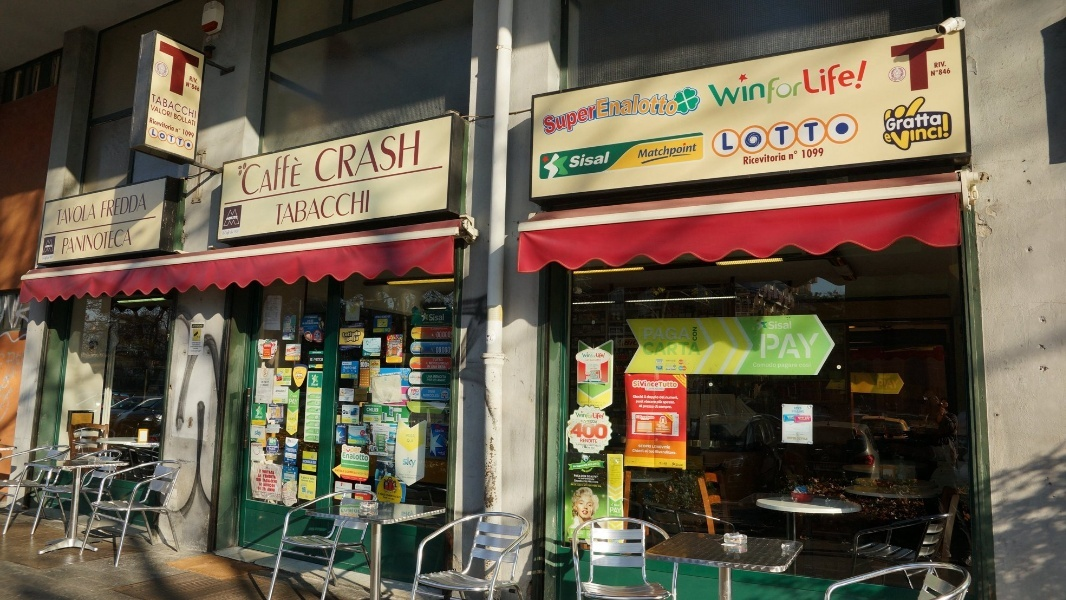text: (161, 41, 176, 100), (177, 41, 192, 100), (321, 127, 336, 185), (337, 127, 352, 185), (353, 127, 368, 185), (369, 127, 384, 185), (385, 127, 400, 185), (401, 127, 416, 185), (897, 37, 912, 94), (913, 37, 928, 94), (929, 37, 944, 94), (721, 58, 736, 110), (737, 58, 752, 110), (753, 58, 768, 110), (769, 58, 784, 110), (785, 58, 800, 110), (801, 58, 816, 110), (817, 58, 832, 110), (833, 58, 848, 110), (849, 58, 864, 110), (706, 58, 720, 110), (257, 151, 272, 199), (273, 151, 288, 199), (289, 151, 303, 199), (289, 189, 304, 226), (305, 189, 320, 226), (321, 189, 336, 226), (337, 189, 352, 226), (353, 189, 368, 226), (245, 151, 256, 199), (545, 103, 560, 138), (561, 103, 576, 138), (577, 103, 592, 138), (737, 119, 752, 152), (753, 119, 768, 152), (769, 119, 784, 152), (785, 119, 800, 152), (801, 119, 816, 152), (817, 119, 832, 152), (833, 119, 848, 152), (276, 189, 288, 226), (65, 227, 80, 256), (81, 227, 96, 256), (97, 227, 112, 256), (113, 227, 128, 256), (723, 119, 736, 152), (609, 92, 624, 120), (625, 92, 640, 120), (641, 92, 656, 120), (657, 92, 672, 120), (193, 41, 200, 100), (313, 127, 320, 185), (113, 192, 128, 219), (129, 192, 144, 219), (897, 125, 912, 152), (913, 125, 928, 152), (769, 333, 784, 360), (785, 333, 800, 360), (801, 333, 816, 360), (161, 94, 176, 120), (177, 94, 192, 120), (882, 125, 896, 152), (929, 125, 943, 152), (610, 458, 624, 485), (387, 335, 400, 363), (257, 469, 272, 493), (65, 202, 80, 226), (81, 202, 96, 226), (897, 110, 912, 133), (913, 110, 928, 133), (890, 37, 896, 94), (258, 378, 272, 402), (596, 92, 608, 120), (641, 141, 656, 162), (657, 141, 672, 162), (673, 141, 688, 162), (929, 110, 942, 133), (593, 423, 609, 440), (102, 192, 112, 219), (577, 151, 592, 168), (593, 151, 608, 168), (577, 423, 592, 440), (417, 127, 421, 185), (886, 110, 896, 133), (369, 338, 381, 357), (657, 341, 672, 356), (673, 341, 688, 356), (289, 344, 301, 362), (753, 152, 768, 166), (769, 152, 784, 166), (177, 113, 192, 127), (161, 117, 175, 132), (657, 327, 672, 341), (673, 327, 688, 341), (152, 94, 160, 120), (865, 58, 869, 110), (643, 341, 656, 356), (689, 341, 702, 356), (289, 481, 297, 505), (265, 297, 272, 324), (273, 297, 280, 324), (689, 141, 698, 162), (761, 333, 768, 360), (305, 315, 320, 327), (230, 209, 240, 227), (161, 104, 173, 119), (802, 147, 816, 159), (289, 316, 296, 340), (57, 202, 64, 226), (673, 92, 679, 120), (149, 117, 160, 132), (693, 326, 704, 341), (641, 377, 656, 388), (593, 363, 602, 381), (353, 452, 369, 462), (342, 362, 352, 378), (340, 388, 352, 401), (403, 456, 416, 468), (645, 327, 656, 341), (257, 491, 272, 501), (577, 410, 592, 420), (577, 474, 592, 484), (593, 103, 597, 138), (360, 370, 368, 387), (385, 492, 400, 501), (151, 104, 160, 119), (769, 321, 784, 330), (881, 380, 896, 389), (342, 330, 352, 343), (931, 67, 944, 77), (585, 363, 592, 381), (945, 114, 950, 139), (289, 466, 297, 481), (273, 469, 278, 493), (593, 410, 605, 420), (657, 424, 670, 433), (129, 227, 133, 256), (744, 152, 752, 166), (789, 150, 800, 160), (193, 342, 203, 353), (340, 508, 352, 517), (289, 399, 304, 406), (401, 473, 416, 480), (401, 510, 416, 517), (337, 469, 352, 476), (353, 469, 368, 476), (541, 103, 544, 138), (577, 443, 592, 450), (353, 330, 361, 343), (193, 94, 197, 120), (179, 138, 192, 146), (570, 423, 576, 440), (405, 434, 416, 443), (610, 507, 624, 514), (264, 344, 272, 356), (284, 481, 288, 505), (433, 313, 445, 321), (369, 415, 381, 423), (284, 316, 288, 340), (660, 416, 672, 424), (363, 338, 368, 357), (593, 352, 606, 359), (422, 389, 432, 398), (343, 452, 352, 462), (183, 129, 192, 139), (934, 60, 944, 69), (641, 449, 656, 455), (657, 449, 672, 455), (577, 462, 592, 468), (577, 482, 592, 488), (571, 151, 576, 168), (817, 147, 824, 159), (436, 331, 448, 338), (401, 335, 404, 363), (225, 230, 239, 236), (641, 415, 655, 421), (817, 333, 820, 360), (305, 476, 315, 484), (273, 491, 281, 501), (379, 434, 384, 450), (353, 362, 358, 378), (657, 404, 673, 409), (659, 382, 672, 388), (581, 352, 592, 359), (633, 377, 640, 388), (789, 425, 800, 432), (273, 399, 288, 404), (49, 238, 54, 253), (641, 395, 656, 400), (657, 395, 672, 400), (641, 404, 656, 409), (753, 363, 768, 368), (436, 347, 448, 353), (343, 446, 352, 454), (580, 401, 592, 407), (306, 334, 320, 339), (193, 83, 200, 93), (593, 474, 600, 484), (801, 362, 812, 368), (227, 216, 240, 221), (785, 364, 798, 369), (289, 414, 297, 422), (353, 446, 361, 454), (433, 389, 440, 398), (593, 443, 602, 450), (785, 321, 792, 330), (276, 390, 288, 395), (284, 466, 288, 481), (433, 358, 448, 362), (308, 364, 320, 369), (945, 67, 951, 77), (641, 400, 656, 404), (657, 400, 672, 404), (641, 445, 656, 449), (593, 401, 603, 407), (945, 37, 946, 94), (273, 425, 280, 433), (433, 365, 447, 369), (193, 113, 197, 127), (153, 129, 160, 137), (657, 445, 671, 449), (305, 460, 316, 465), (257, 429, 263, 438), (378, 492, 384, 501), (343, 409, 352, 415), (285, 344, 288, 362), (145, 192, 147, 219), (593, 482, 602, 488), (583, 524, 592, 530), (433, 375, 446, 379), (435, 429, 448, 433), (684, 373, 688, 386), (611, 539, 624, 543), (787, 437, 800, 441), (942, 114, 944, 139), (577, 531, 584, 538), (289, 426, 297, 432), (289, 447, 297, 453), (433, 362, 449, 365), (360, 362, 368, 368), (170, 135, 176, 143), (632, 449, 640, 455), (580, 439, 592, 443), (193, 325, 208, 328), (433, 379, 448, 382), (353, 508, 358, 517), (343, 418, 352, 423), (375, 428, 384, 433), (193, 76, 198, 85), (581, 420, 592, 424), (689, 327, 692, 341), (593, 462, 600, 468), (793, 408, 800, 414), (801, 425, 807, 432), (252, 491, 256, 501), (369, 408, 379, 412), (411, 389, 416, 397), (632, 395, 640, 400), (769, 363, 777, 368), (801, 417, 811, 421), (339, 425, 352, 428), (369, 189, 370, 226), (42, 255, 48, 261), (788, 416, 800, 419), (187, 81, 192, 88), (161, 133, 166, 140), (571, 531, 576, 538), (609, 151, 611, 168), (849, 119, 850, 152), (268, 425, 272, 433), (588, 531, 592, 539), (801, 437, 809, 441), (353, 427, 363, 430), (353, 418, 359, 423), (310, 358, 320, 361), (673, 382, 678, 388), (673, 395, 679, 400), (571, 482, 576, 488), (63, 227, 64, 256), (417, 473, 421, 480), (174, 113, 176, 127), (177, 127, 181, 134), (657, 360, 664, 364), (657, 367, 664, 371), (593, 359, 602, 362), (877, 380, 880, 389), (283, 376, 288, 381), (779, 364, 784, 369), (301, 476, 304, 484), (429, 313, 432, 321), (365, 415, 368, 423), (417, 389, 420, 397), (49, 255, 53, 261), (636, 415, 640, 421), (673, 449, 677, 455), (593, 420, 599, 424), (801, 408, 805, 414), (190, 342, 192, 353), (657, 377, 659, 388), (257, 426, 264, 429), (425, 362, 432, 365), (377, 424, 384, 427), (313, 351, 320, 354), (585, 359, 592, 362), (427, 365, 432, 369), (427, 375, 432, 379), (427, 378, 432, 382), (385, 428, 389, 433), (315, 334, 320, 338), (193, 129, 195, 139), (593, 439, 598, 443), (574, 474, 576, 484), (285, 447, 288, 453), (190, 76, 192, 85), (945, 60, 947, 69), (666, 368, 672, 371), (573, 462, 576, 468), (897, 380, 899, 389), (385, 434, 386, 450), (49, 244, 53, 248), (636, 400, 640, 404), (285, 369, 288, 374), (47, 238, 48, 253), (785, 152, 786, 166), (449, 331, 451, 338), (398, 473, 400, 480), (353, 388, 354, 401), (449, 347, 451, 353), (417, 456, 418, 468), (303, 315, 304, 327), (45, 244, 48, 248), (673, 368, 677, 371), (673, 400, 676, 404), (289, 376, 291, 381), (321, 364, 323, 369), (575, 410, 576, 420), (253, 426, 256, 429), (255, 429, 256, 438), (401, 492, 402, 501), (798, 417, 800, 421), (335, 469, 336, 476), (350, 427, 352, 430), (321, 358, 323, 361), (223, 230, 224, 236), (799, 362, 800, 368), (303, 460, 304, 465), (639, 404, 640, 409), (367, 408, 368, 412), (639, 445, 640, 449), (321, 351, 322, 354)
